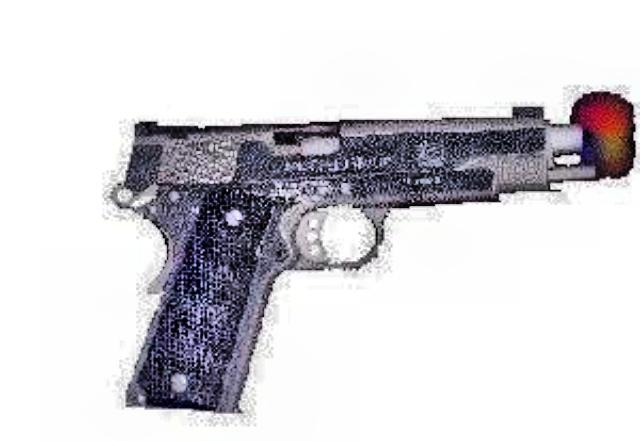pistol: (111, 96, 599, 414)
